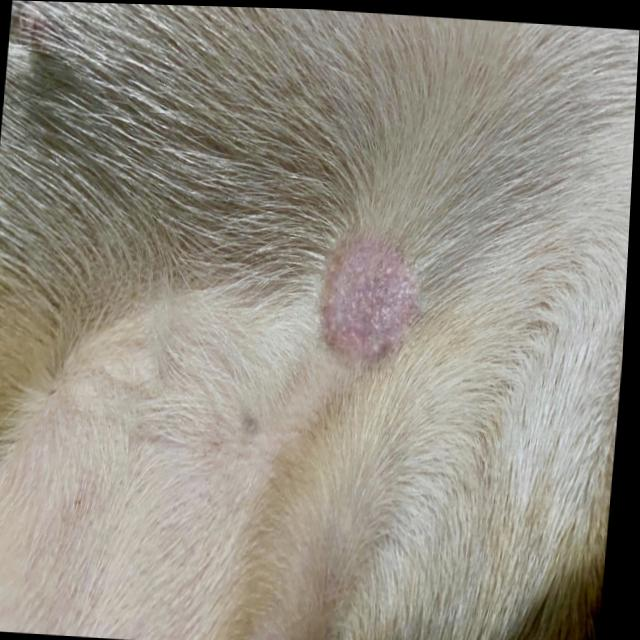ringworm: (309, 201, 428, 374)
